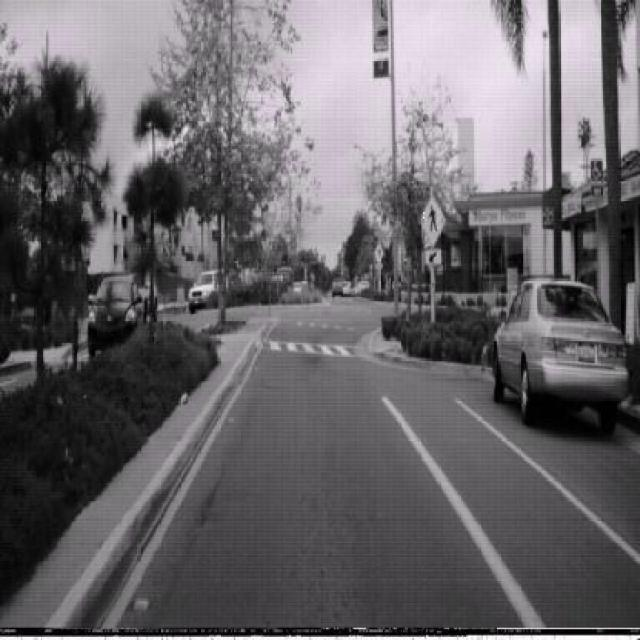pedestrianCrossing: (419, 192, 446, 246)
